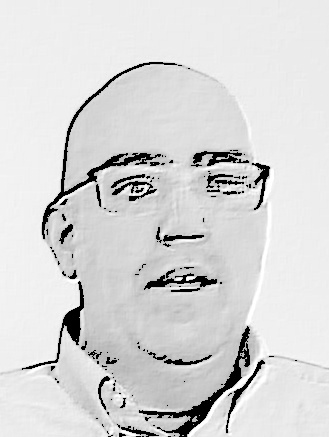nose_M_C: (149, 193, 212, 259)
